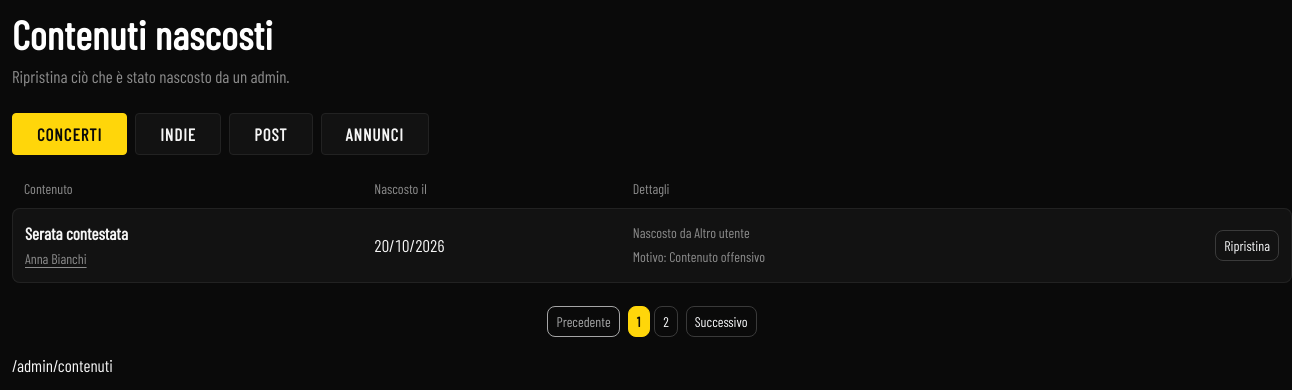
Scenario: HiddenContentPage · elenco › passa alla pagina scelta
Expected: the text "Serata contestata" is shown, [25,223,128,243]
What coordinates should you click on to do the following:
click the button named "Pagina 2"
I would click on:
 (666, 321)
Its box is [654,306,678,336].
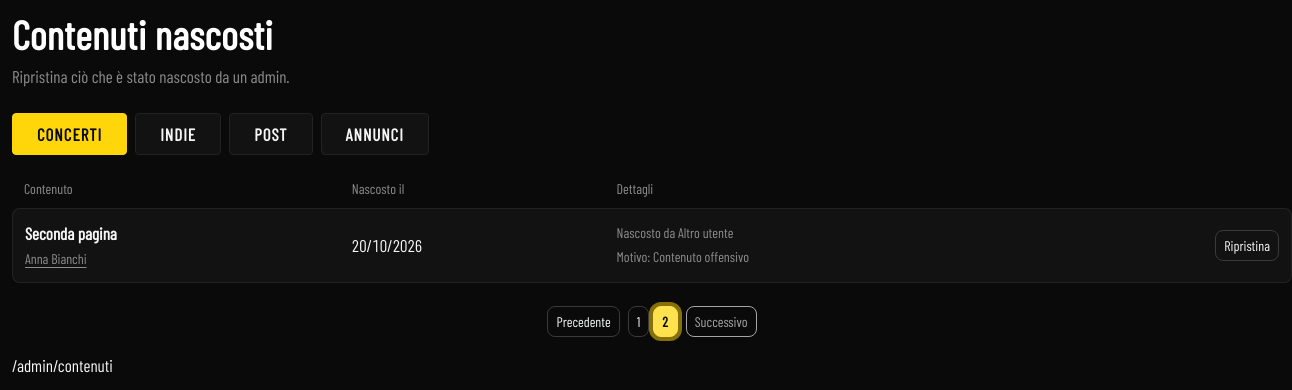
Expected: the text "Seconda pagina" is shown, [25,223,117,243]
